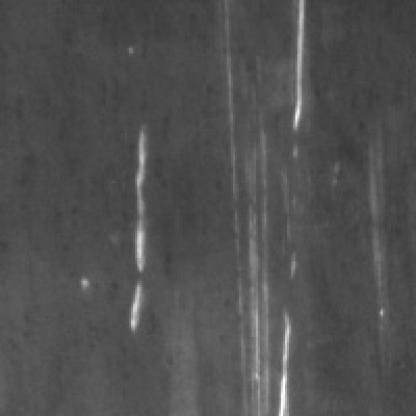scratches: (235, 112, 300, 410), (122, 121, 158, 328), (364, 131, 393, 337), (289, 0, 318, 135)
